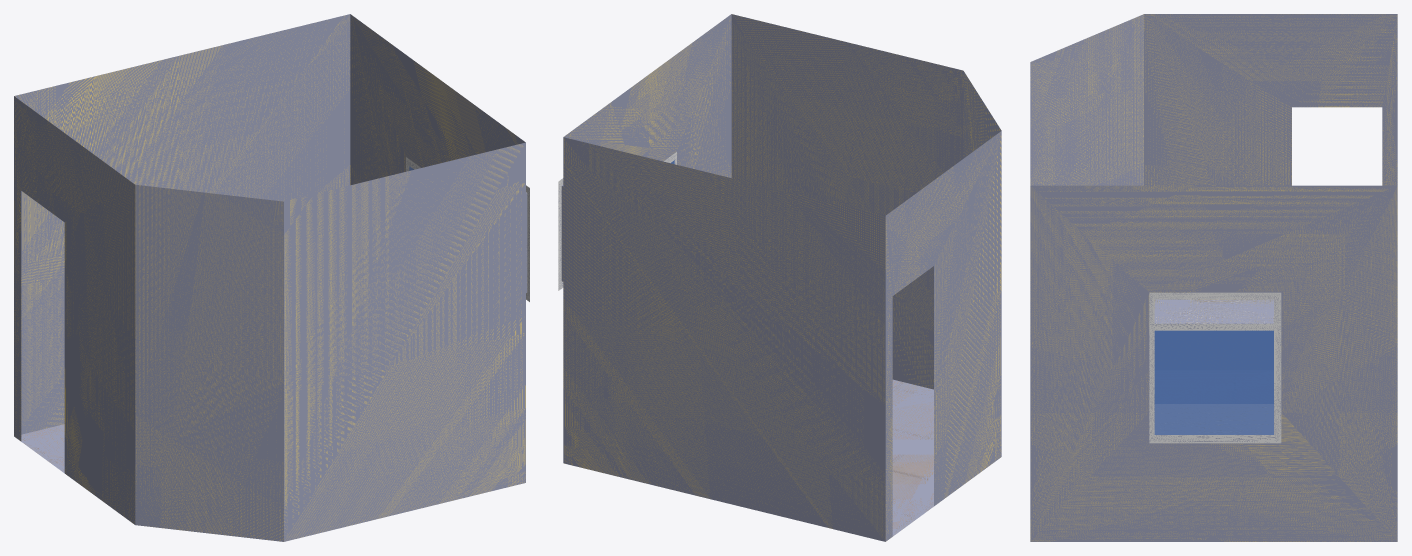
File: DES047.obj
The picture shows the model from 3 angles, left to right: view 1: azimuth 30°, elevation 25°; view 2: azimuth 150°, elevation 25°; view 3: azimuth 270°, elevation 25°; orthographic projection. The views are drawn at different scales.
Visible parts, largest first — view 1: Mesh5 DES047 Model; view 2: Mesh5 DES047 Model, Mesh1 Group1 DES047 Model; view 3: Mesh5 DES047 Model, Mesh1 Group1 DES047 Model.
Part boxes in pixels (x1=…): Mesh5 DES047 Model: x1=14, y1=14, x2=525, y2=541; Mesh5 DES047 Model: x1=563, y1=14, x2=1001, y2=541; Mesh1 Group1 DES047 Model: x1=558, y1=152, x2=676, y2=290; Mesh5 DES047 Model: x1=1030, y1=14, x2=1397, y2=541; Mesh1 Group1 DES047 Model: x1=1149, y1=292, x2=1281, y2=443.
Bounding box in the file's own units: 3.67 × 3 × 2.81.
6 materials, 2 textured.
